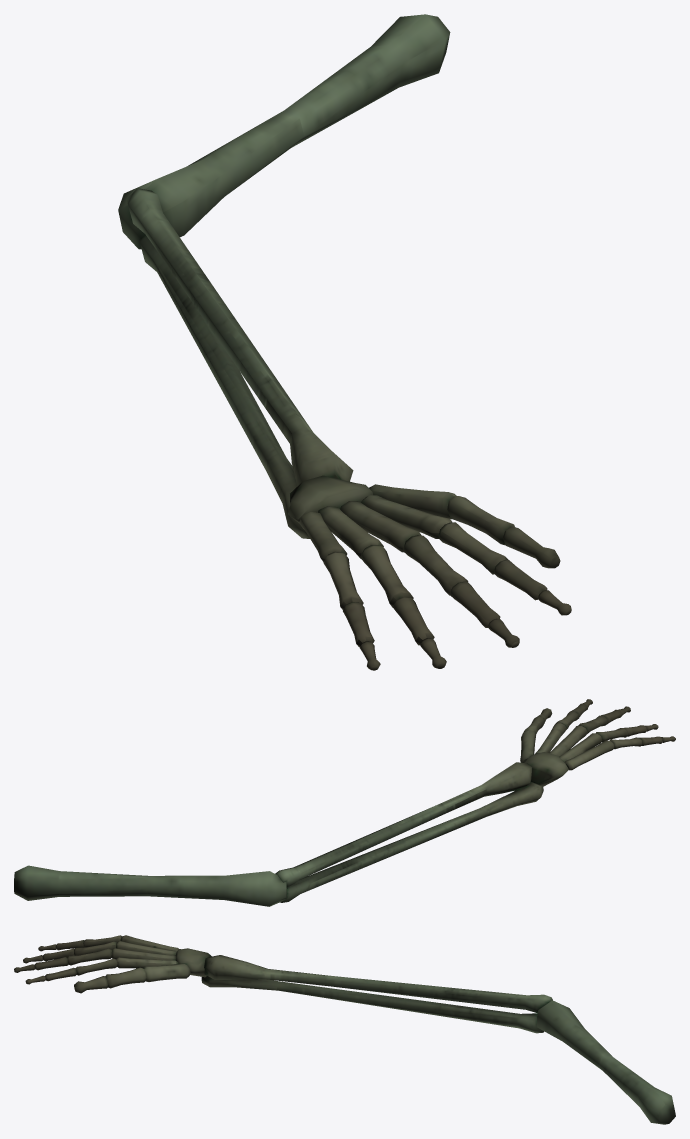
Rendered from Skeleton_Arm.fbx.
3 views of the same model, one above another, from view 1: azimuth 30°, elevation 25°; view 2: azimuth 150°, elevation 25°; view 3: azimuth 270°, elevation 25° (orthographic). The views are drawn at different scales.
Parts seen in each view (by area): view 1: arm_upperarm, arm_ulna, arm_radius, hand_middle, hand_index, hand_ring, hand_thumb, hand_pinky, hand; view 2: arm_upperarm, arm_ulna, arm_radius, hand_pinky, hand, hand_ring, hand_middle, hand_index, hand_thumb; view 3: arm_ulna, arm_upperarm, arm_radius, hand_thumb, hand_middle, hand_index, hand_ring, hand_pinky, hand.
Part boxes in pixels (left/top/right/bottom): arm_upperarm: left=118, top=14, right=450, bottom=249; arm_ulna: left=127, top=188, right=353, bottom=486; arm_radius: left=139, top=235, right=309, bottom=538; hand_middle: left=340, top=501, right=519, bottom=647; hand_index: left=361, top=495, right=571, bottom=615; hand_ring: left=318, top=506, right=446, bottom=668; hand_thumb: left=369, top=484, right=560, bottom=568; hand_pinky: left=299, top=512, right=380, bottom=670; hand: left=288, top=475, right=372, bottom=522; arm_upperarm: left=14, top=865, right=287, bottom=906; arm_ulna: left=275, top=762, right=531, bottom=887; arm_radius: left=280, top=782, right=543, bottom=902; hand_pinky: left=564, top=736, right=675, bottom=770; hand: left=524, top=752, right=568, bottom=786; hand_ring: left=559, top=724, right=658, bottom=762; hand_middle: left=549, top=706, right=630, bottom=756; hand_index: left=535, top=699, right=592, bottom=753; hand_thumb: left=520, top=708, right=552, bottom=762; arm_ulna: left=204, top=955, right=552, bottom=1012; arm_upperarm: left=537, top=1000, right=675, bottom=1124; arm_radius: left=201, top=976, right=543, bottom=1033; hand_thumb: left=74, top=963, right=190, bottom=993; hand_middle: left=14, top=948, right=176, bottom=972; hand_index: left=25, top=957, right=178, bottom=984; hand_ring: left=23, top=941, right=176, bottom=963; hand_pinky: left=38, top=935, right=178, bottom=951; hand: left=175, top=948, right=211, bottom=977.
Bounding box in the file's own units: 603 × 69.49 × 987.
